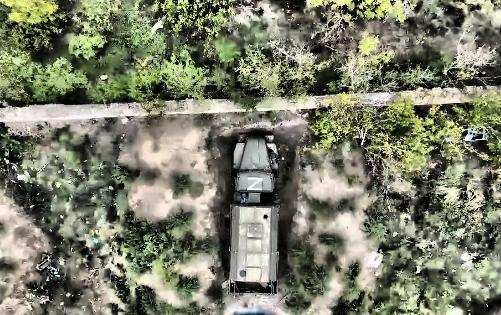military-vehicle: (228, 134, 280, 298)
